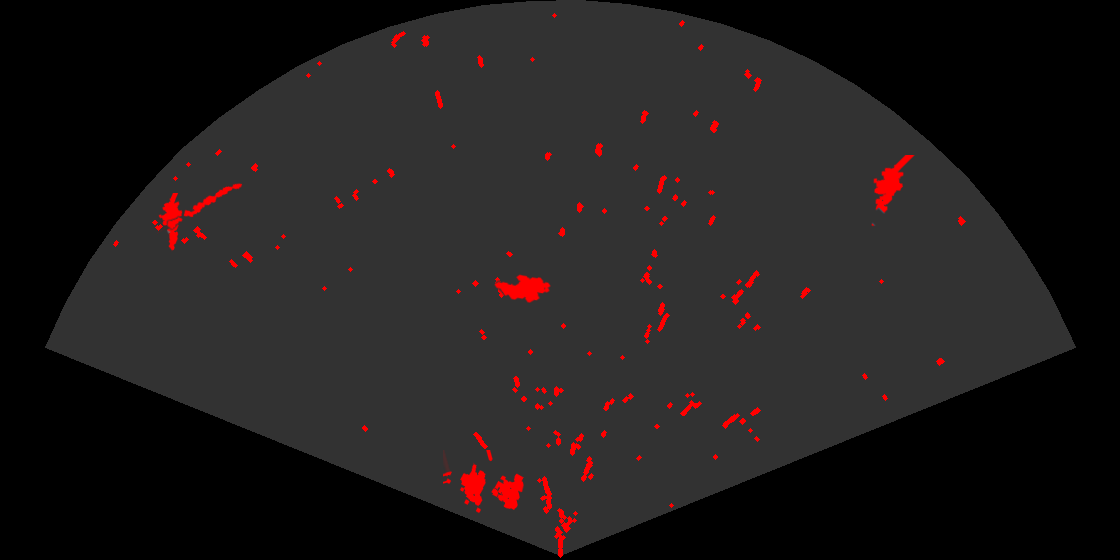AUV: (493, 273, 552, 304)
cage: (443, 450, 525, 515)
chain: (157, 181, 244, 235)
frogman: (870, 155, 916, 228), (157, 193, 184, 252)
